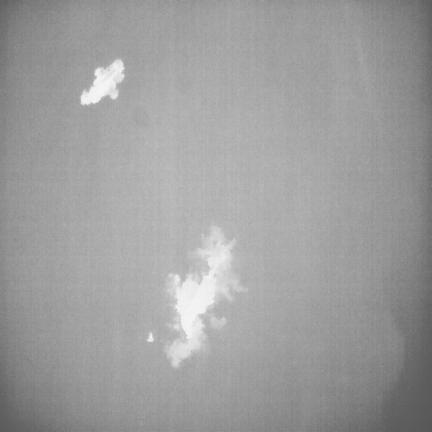flukeprints: (165, 226, 245, 367), (81, 59, 124, 104)
